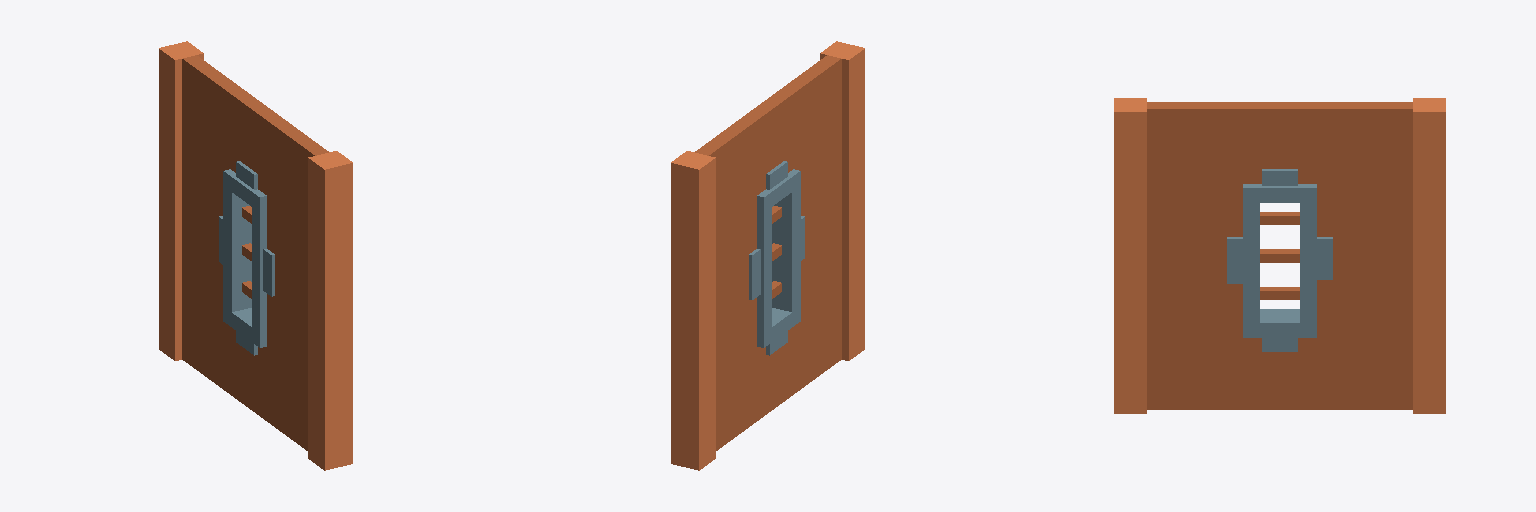
The model's file is wallWoodWindowStone.obj.
3 renders of one model, left to right at view 1: azimuth 30°, elevation 25°; view 2: azimuth 150°, elevation 25°; view 3: azimuth 270°, elevation 25°, orthographic.
Visible parts, largest first — view 1: wallWoodWindowStone; view 2: wallWoodWindowStone; view 3: wallWoodWindowStone.
Boxes of the visible parts, x1=… form: wallWoodWindowStone: x1=159, y1=41, x2=352, y2=470; wallWoodWindowStone: x1=671, y1=41, x2=864, y2=470; wallWoodWindowStone: x1=1114, y1=98, x2=1445, y2=413.
Size of the model in its own units: 0.1 by 1 by 1.